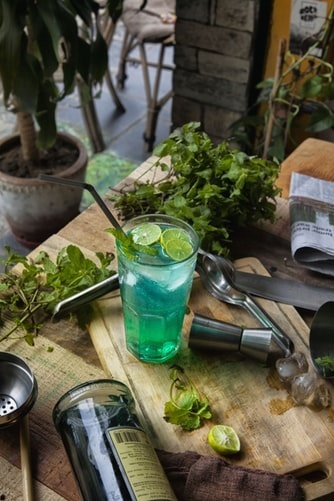whiskey: (108, 219, 200, 360)
